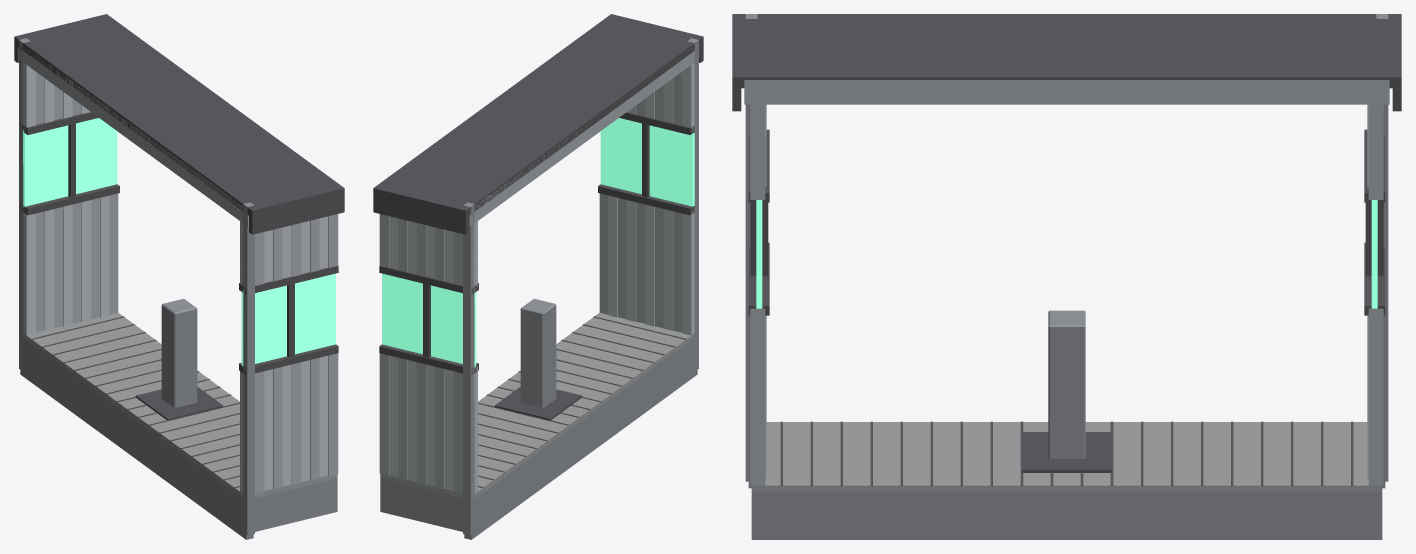
Rendered from factory_gallery.glb.
3 views of the same model, side by side, from view 1: azimuth 30°, elevation 25°; view 2: azimuth 150°, elevation 25°; view 3: azimuth 270°, elevation 25° (orthographic). The views are drawn at different scales.
Parts seen in each view (by area): view 1: gl_bay_mesh, gl_leg_mesh; view 2: gl_bay_mesh, gl_leg_mesh; view 3: gl_bay_mesh, gl_leg_mesh.
Part boxes in pixels (x1,y1,x2,y2): gl_bay_mesh: [14, 14, 344, 539]; gl_leg_mesh: [135, 298, 223, 420]; gl_bay_mesh: [373, 14, 703, 539]; gl_leg_mesh: [494, 298, 582, 420]; gl_bay_mesh: [732, 14, 1401, 539]; gl_leg_mesh: [1022, 310, 1111, 472].
Bounding box in the file's own units: 1 × 3.45 × 4.46.
